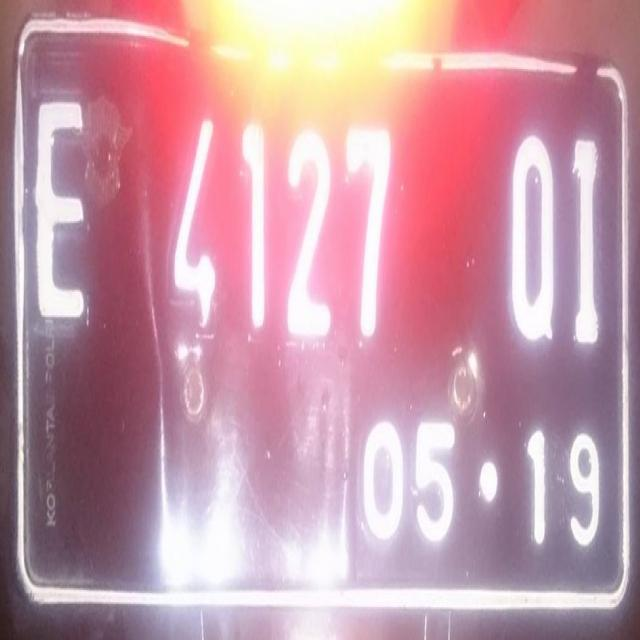plate: (12, 8, 631, 610)
